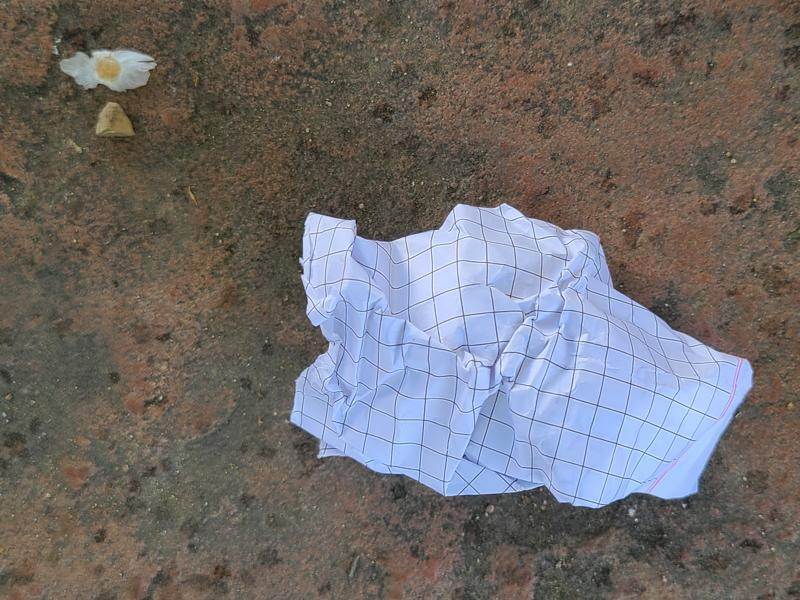papel: (290, 204, 753, 511)
